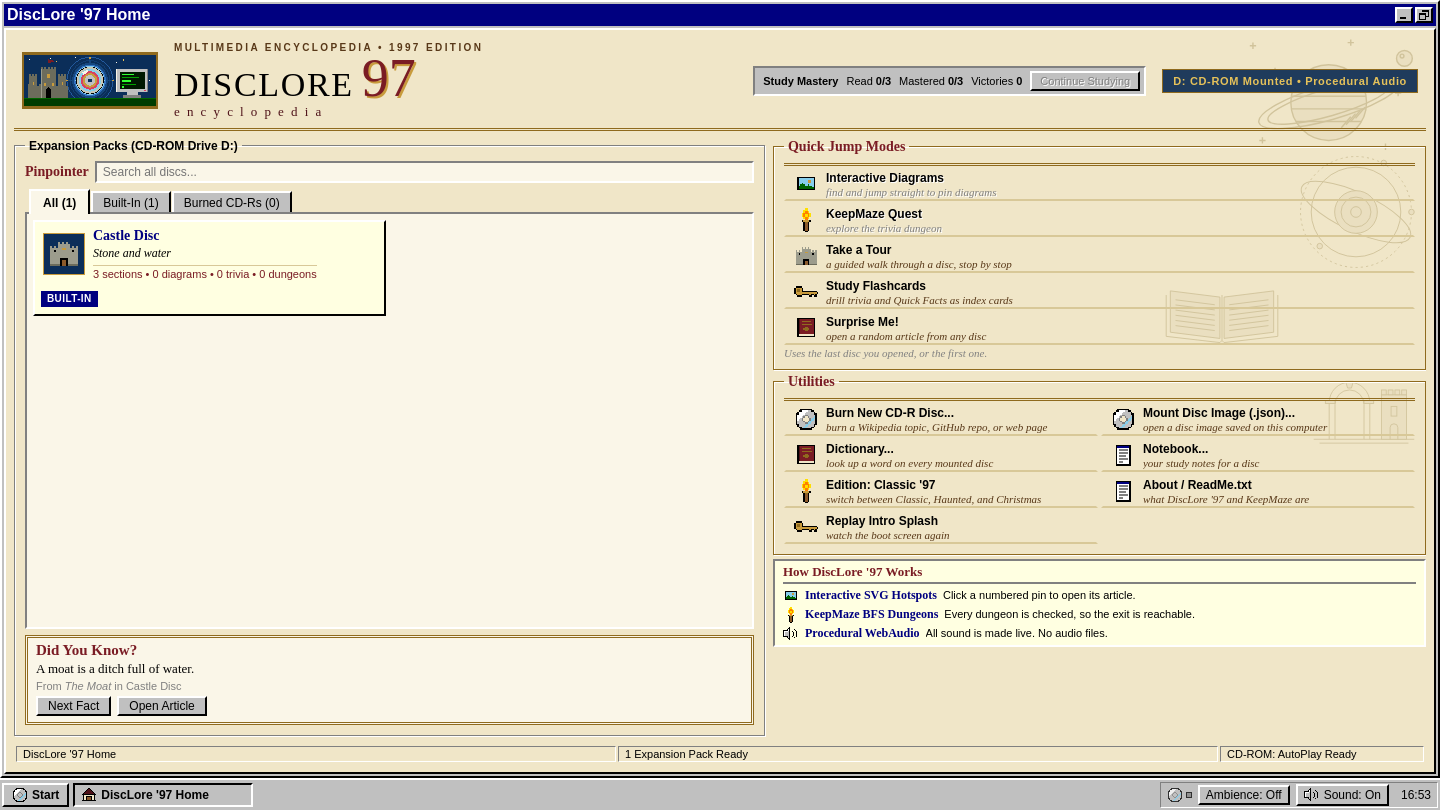
Test: Dictionary › opens pre-filled when a word is double-clicked in an article, and looks it up at once
Click the text "Castle Disc" at (126, 236), box [93,228,160,244]
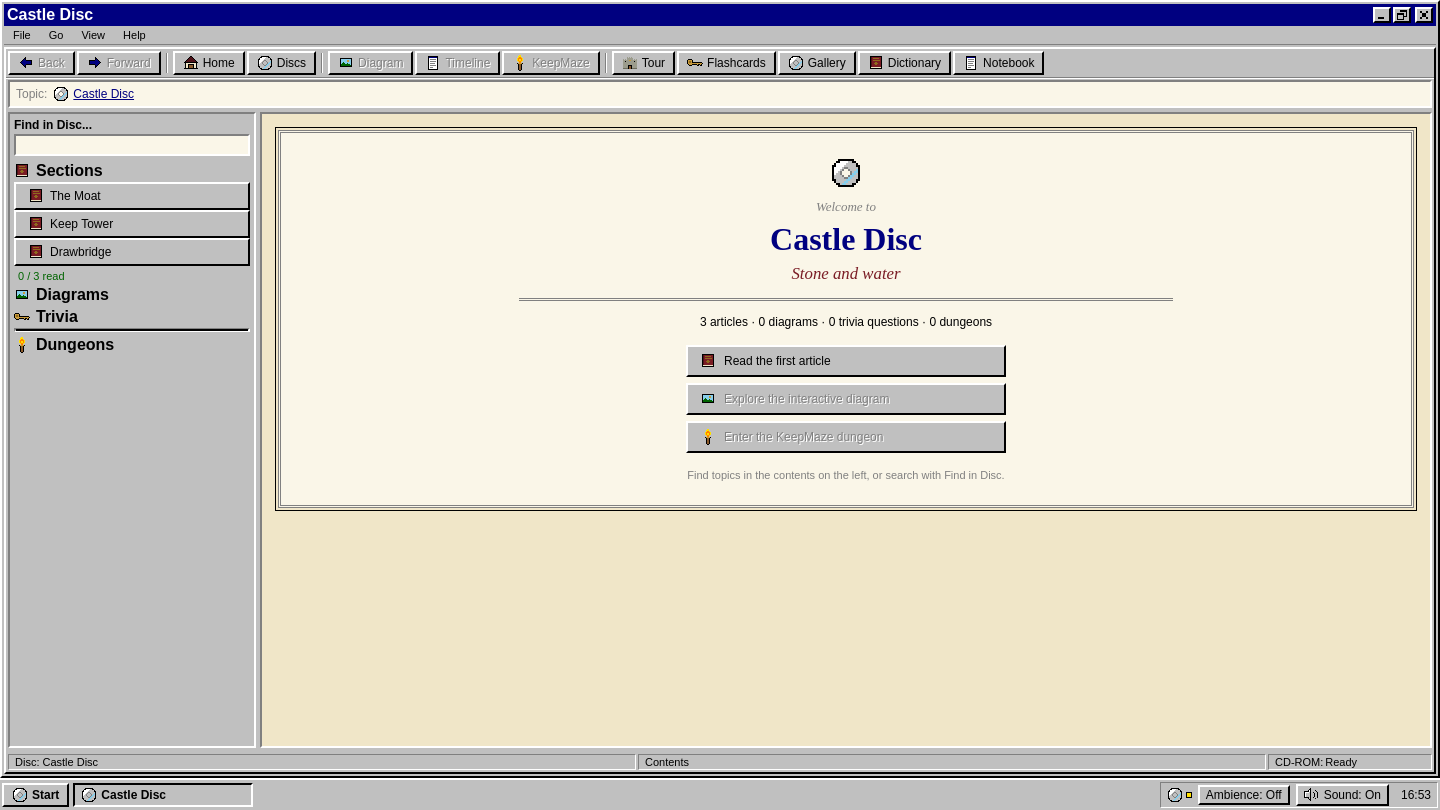
Click the button "The Moat" at (132, 196), box [14,182,250,210]
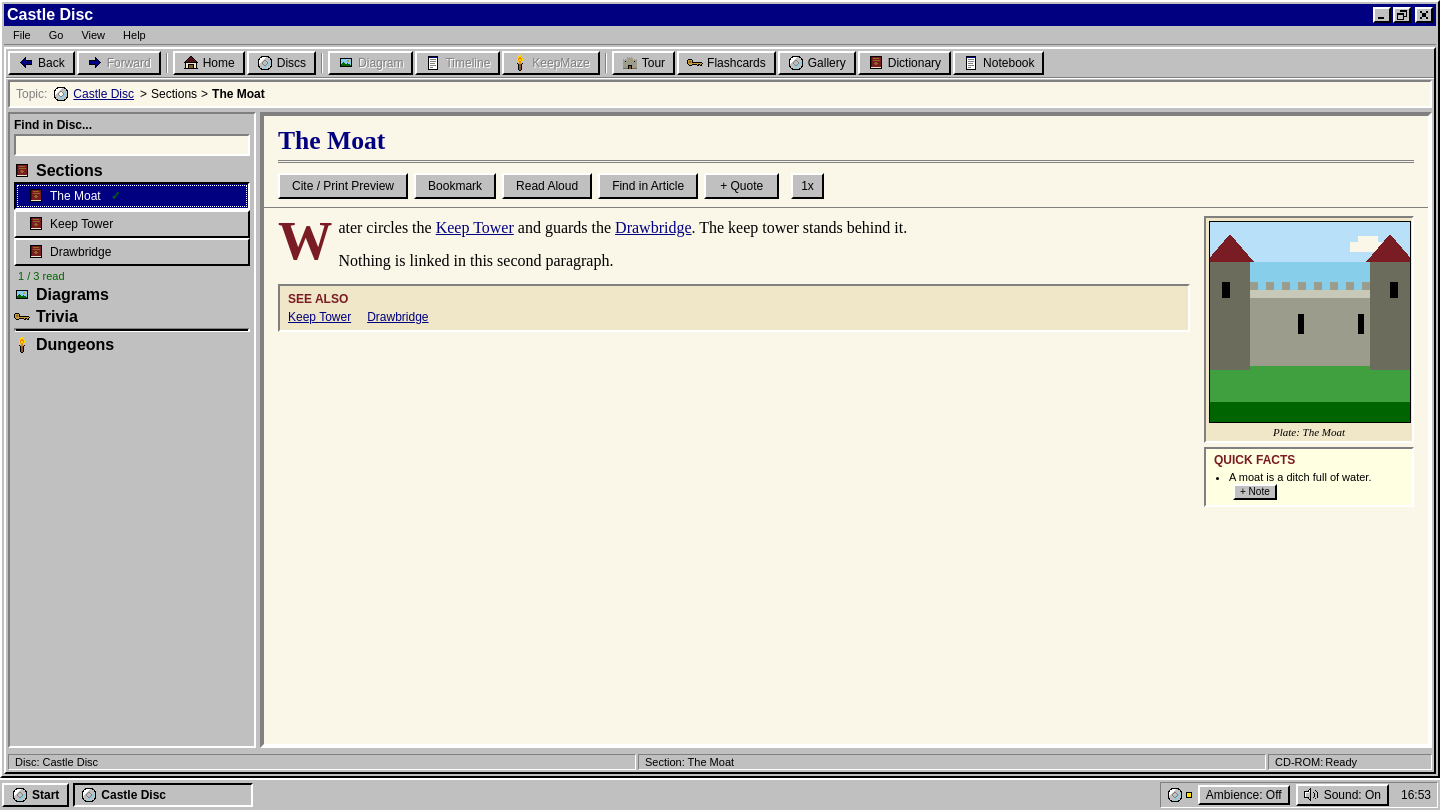
Double-click the text "Nothing is linked in this second paragraph." at (476, 261), box [338,252,614,269]
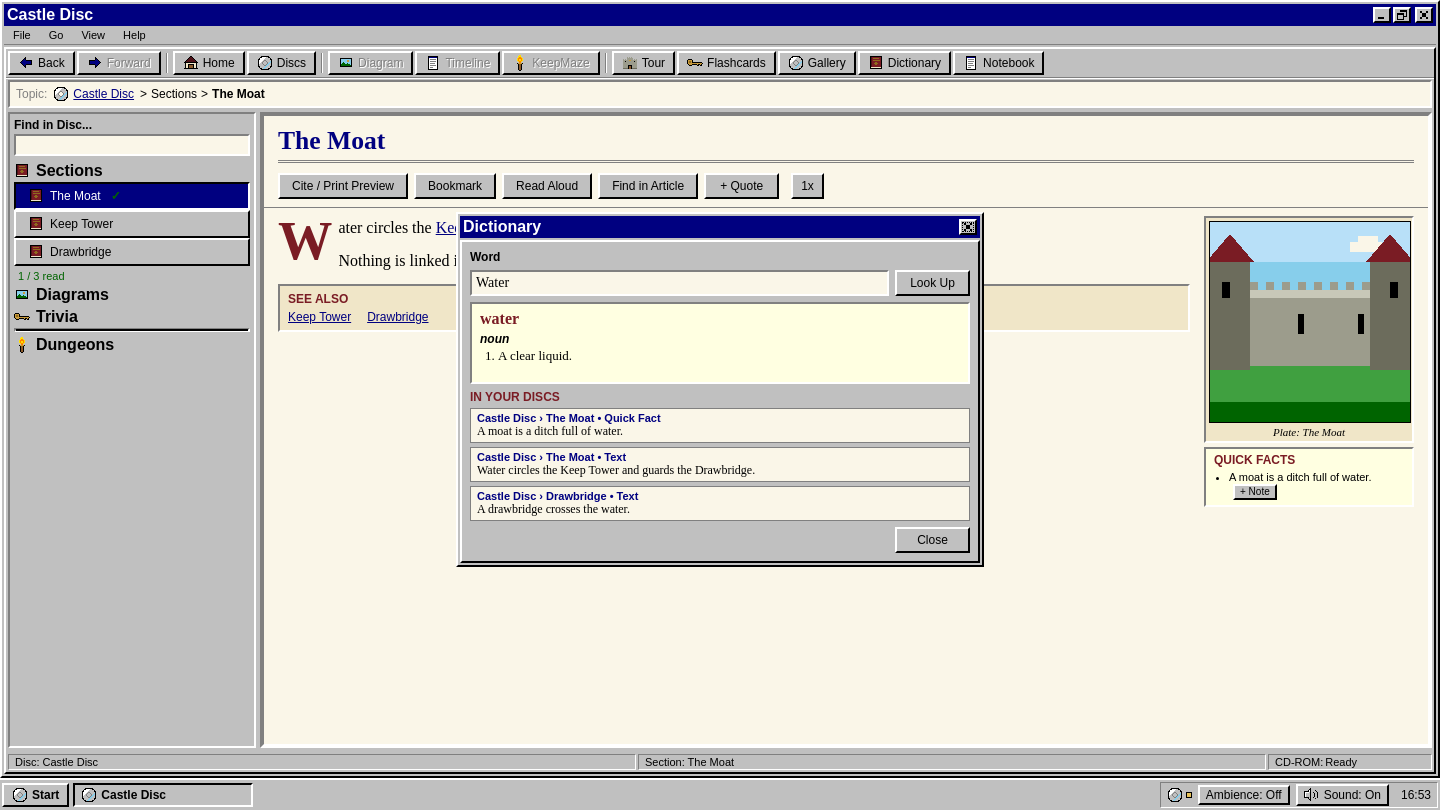
Result: the field labelled "Word" holds "Water" at [470,270,889,296]
Result: the list item "A clear liquid." is shown at [498,348,572,362]
